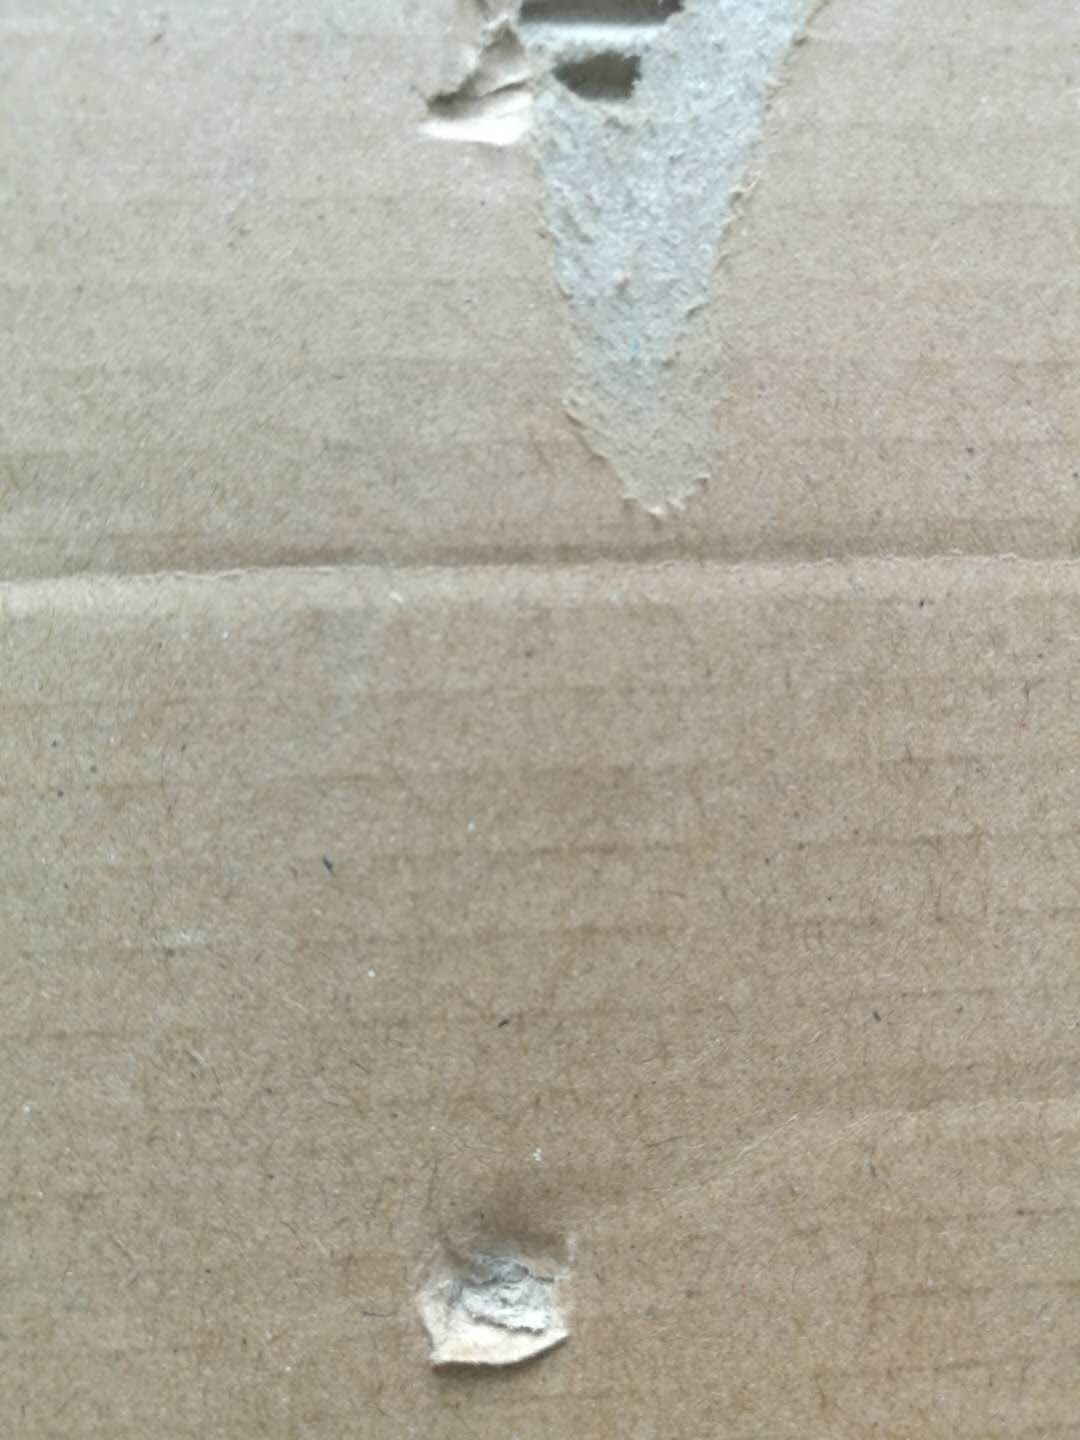defect: (388, 1, 869, 532), (5, 508, 1080, 627), (376, 1157, 628, 1401)
